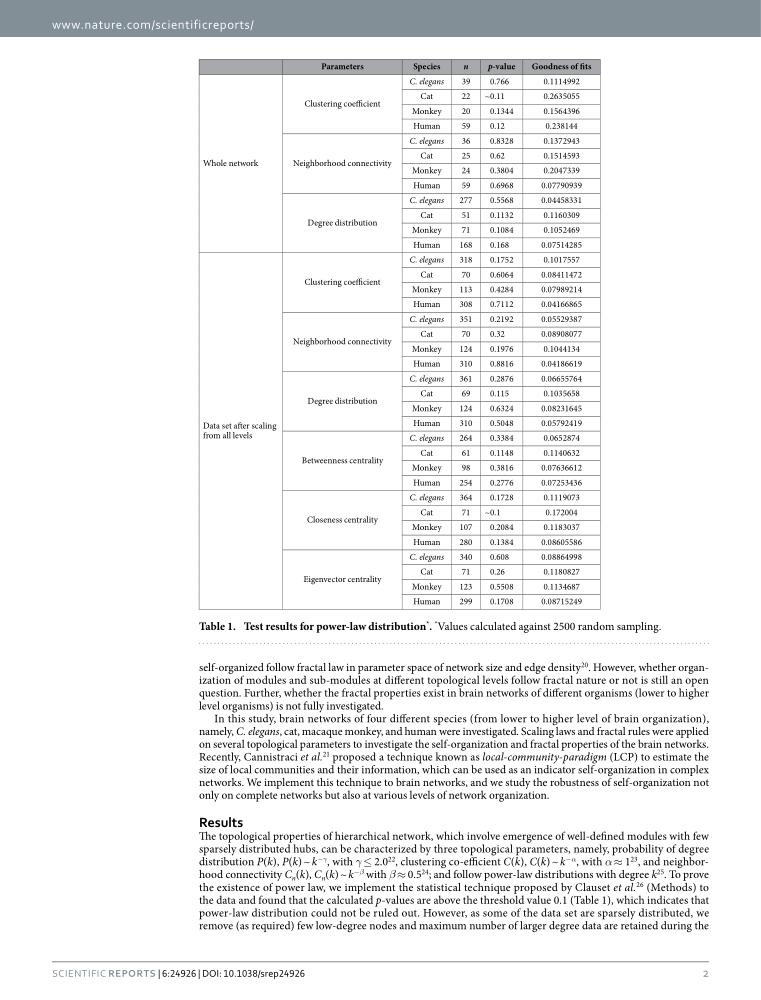table: (202, 60, 590, 607)
